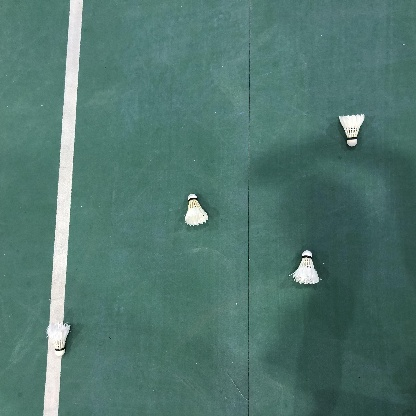ball_single: (293, 251, 319, 285), (339, 114, 365, 147), (47, 322, 70, 356), (185, 194, 208, 226)
